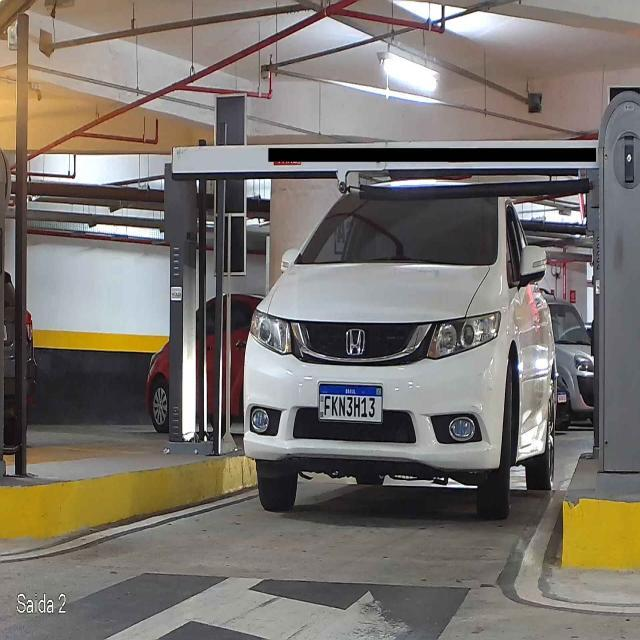mercosul_plate: (317, 383, 384, 424)
